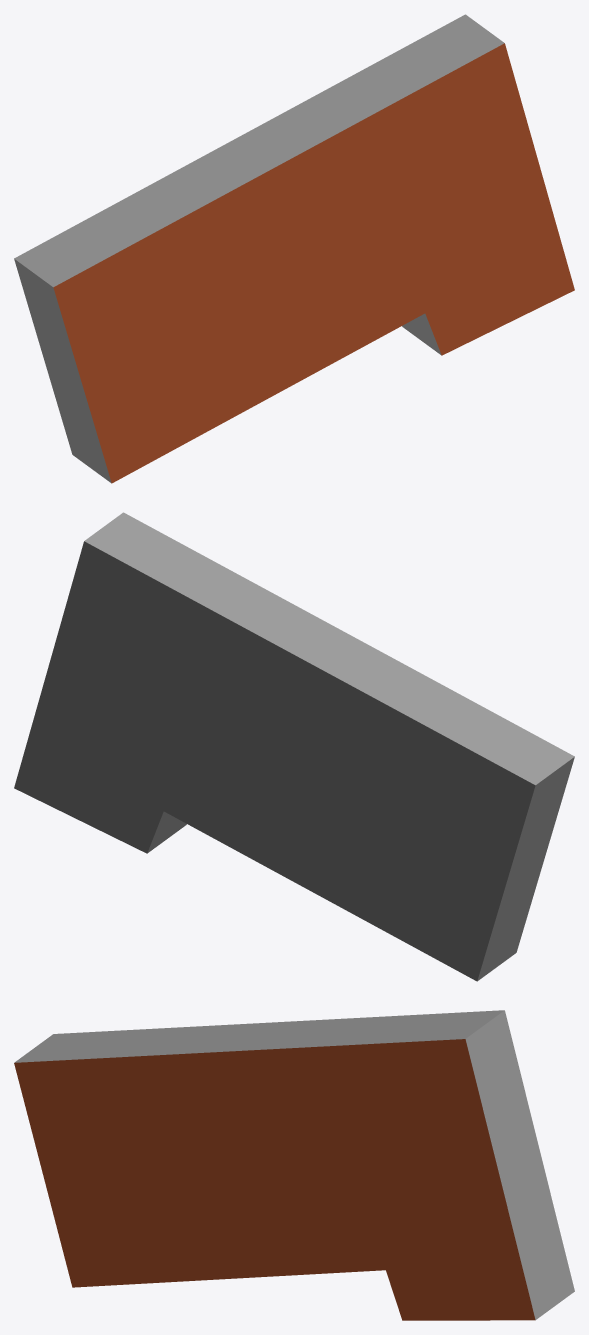
File: construction_6678_assumed_A_Casa_h6m.obj
3 views of the same model, one above another, from view 1: azimuth 30°, elevation 25°; view 2: azimuth 150°, elevation 25°; view 3: azimuth 330°, elevation 25° (orthographic).
Parts seen in each view (by area): view 1: construction_6678_assumed_A_Casa; view 2: construction_6678_assumed_A_Casa; view 3: construction_6678_assumed_A_Casa.
Part boxes in pixels (<box>): construction_6678_assumed_A_Casa: <box>14,14,574,483</box>; construction_6678_assumed_A_Casa: <box>14,512,574,981</box>; construction_6678_assumed_A_Casa: <box>14,1010,574,1320</box>.
Size of the model in its own units: 45.88 by 28.96 by 6.
